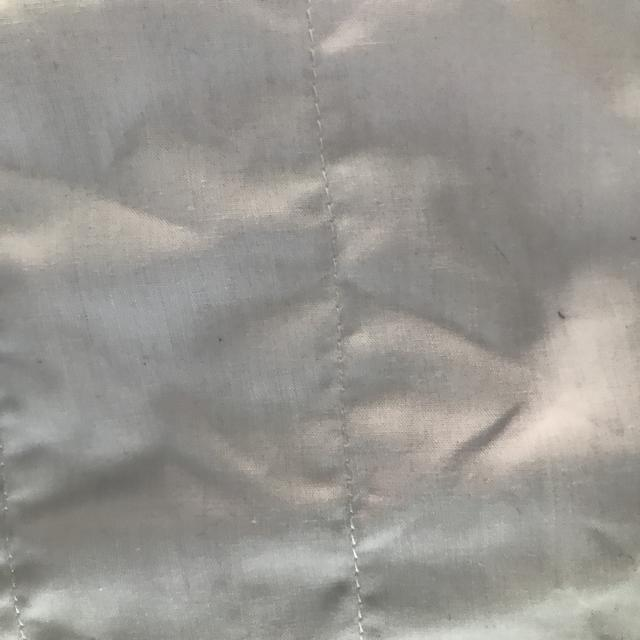good: (333, 538, 385, 624)
